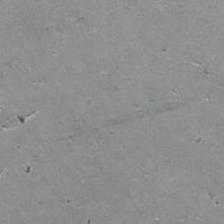Non_Crack: (30, 14, 170, 201)
